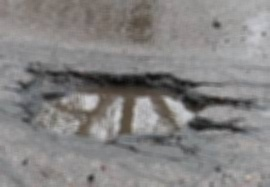pothole: (18, 60, 241, 152)
